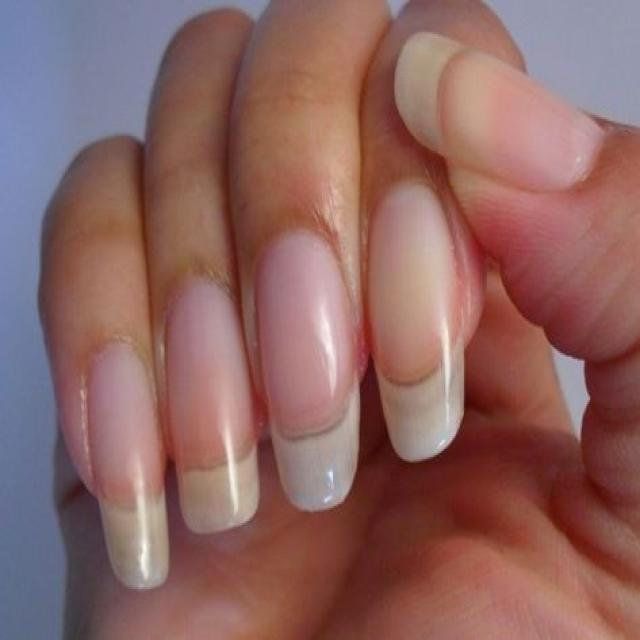Fingernail: (394, 30, 605, 196), (256, 230, 359, 512), (368, 183, 465, 462), (165, 278, 259, 533), (88, 342, 171, 590)
